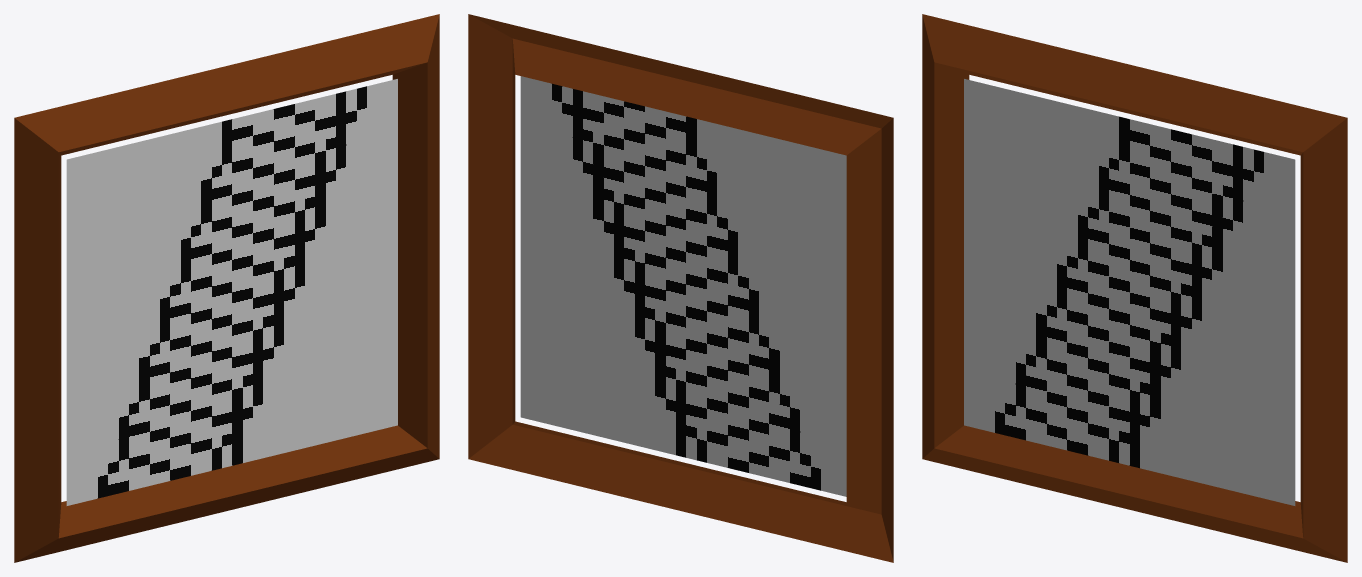
File: stairsPainting2.glb
3 renders of one model, left to right at view 1: azimuth 30°, elevation 25°; view 2: azimuth 150°, elevation 25°; view 3: azimuth 330°, elevation 25°, orthographic.
Parts seen in each view (by area): view 1: Canvas.001, Frame.004; view 2: Canvas.001, Frame.004; view 3: Canvas.001, Frame.004.
Boxes of the visible parts, x1,y1,x2,y2 form: Canvas.001: [66, 79, 397, 505]; Frame.004: [14, 14, 439, 562]; Canvas.001: [520, 76, 846, 496]; Frame.004: [468, 14, 893, 562]; Canvas.001: [964, 79, 1295, 505]; Frame.004: [922, 14, 1347, 562].
Size of the model in its own units: 1.28 by 1.28 by 0.0849.
Materials: 2 (1 with a texture image).
